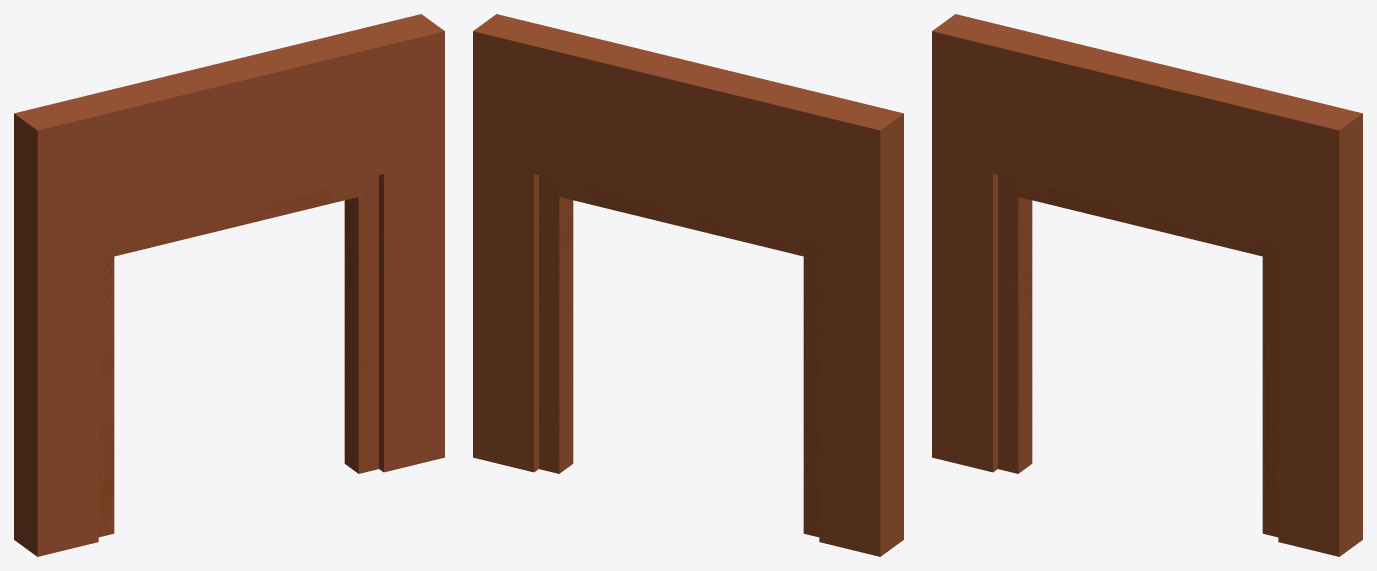
The model's file is doorway_double.fbx.
The picture shows the model from 3 angles, left to right: view 1: azimuth 30°, elevation 25°; view 2: azimuth 150°, elevation 25°; view 3: azimuth 330°, elevation 25°; orthographic projection.
Visible parts, largest first — view 1: Mesh1_wall_7_1 Model; view 2: Mesh1_wall_7_1 Model; view 3: Mesh1_wall_7_1 Model.
Boxes of the visible parts, x1,y1,x2,y2 form: Mesh1_wall_7_1 Model: (14,14,444,556); Mesh1_wall_7_1 Model: (473,14,903,556); Mesh1_wall_7_1 Model: (932,14,1362,556).
Size of the model in its own units: 1 by 1 by 0.1.
